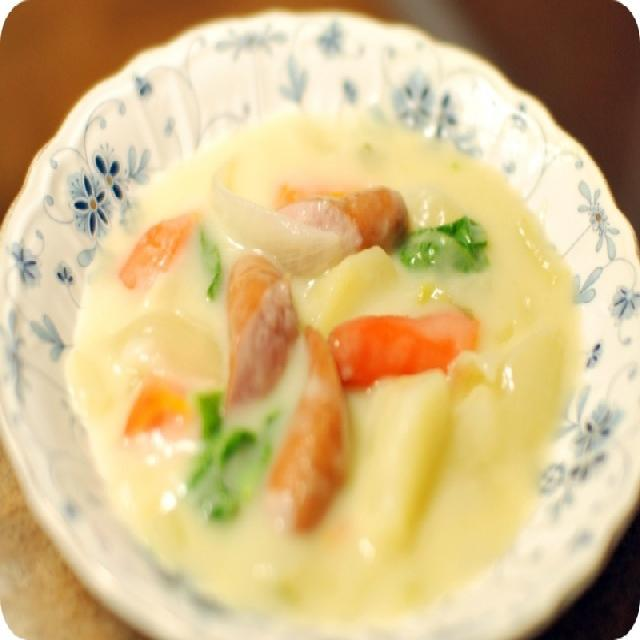汤锅炖物: (4, 5, 634, 628)
